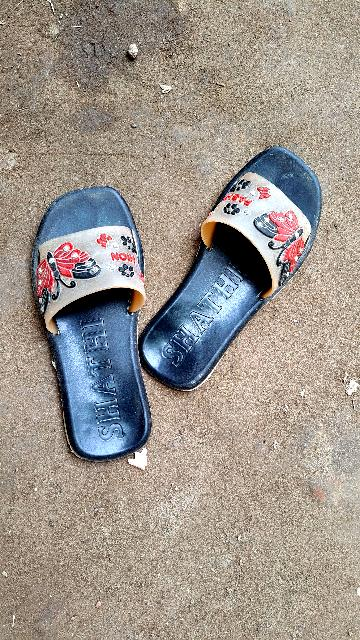sandal: (84, 129, 348, 428), (5, 170, 168, 466)
